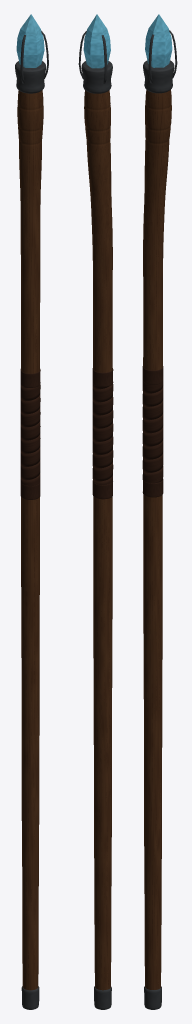
File: Aetheria_T1_MagicStaff.fbx
3 views of the same model, side by side, from view 1: azimuth 90°, elevation 25°; view 2: azimuth 150°, elevation 25°; view 3: azimuth 330°, elevation 25° (orthographic).
Visible parts, largest first — view 1: Staff_01_WoodenShaft, Staff_02_LeatherGrip, Staff_06_PaleCrystalFocus, Staff_05_FocusSocket, Staff_04_IronFoot, Staff_03_GripFinish_Upper, Staff_03_GripFinish_Lower, Staff_07_Retainer_2; view 2: Staff_01_WoodenShaft, Staff_02_LeatherGrip, Staff_06_PaleCrystalFocus, Staff_05_FocusSocket, Staff_04_IronFoot, Staff_03_GripFinish_Upper, Staff_03_GripFinish_Lower, Staff_07_Retainer_2; view 3: Staff_01_WoodenShaft, Staff_02_LeatherGrip, Staff_06_PaleCrystalFocus, Staff_05_FocusSocket, Staff_04_IronFoot, Staff_03_GripFinish_Upper, Staff_03_GripFinish_Lower, Staff_07_Retainer_3.
Part boxes in pixels (box(x1,y1,x2,y2)): Staff_01_WoodenShaft: box(17, 90, 43, 990); Staff_02_LeatherGrip: box(20, 384, 40, 487); Staff_06_PaleCrystalFocus: box(16, 14, 44, 67); Staff_05_FocusSocket: box(15, 61, 45, 93); Staff_04_IronFoot: box(21, 986, 39, 1009); Staff_03_GripFinish_Upper: box(20, 369, 40, 387); Staff_03_GripFinish_Lower: box(20, 482, 40, 499); Staff_07_Retainer_2: box(20, 35, 25, 83); Staff_01_WoodenShaft: box(84, 90, 112, 990); Staff_02_LeatherGrip: box(92, 381, 113, 486); Staff_06_PaleCrystalFocus: box(83, 14, 110, 68); Staff_05_FocusSocket: box(81, 61, 112, 93); Staff_04_IronFoot: box(94, 986, 111, 1009); Staff_03_GripFinish_Upper: box(92, 368, 113, 386); Staff_03_GripFinish_Lower: box(92, 480, 112, 499); Staff_07_Retainer_2: box(101, 35, 107, 83); Staff_01_WoodenShaft: box(143, 90, 171, 989); Staff_02_LeatherGrip: box(142, 381, 163, 483); Staff_06_PaleCrystalFocus: box(145, 14, 172, 67); Staff_05_FocusSocket: box(143, 60, 174, 93); Staff_04_IronFoot: box(144, 986, 161, 1009); Staff_03_GripFinish_Upper: box(142, 366, 163, 384); Staff_03_GripFinish_Lower: box(142, 479, 163, 497); Staff_07_Retainer_3: box(148, 34, 154, 83).
Size of the model in its own units: 0.051 by 1.68 by 0.0525.
Materials: 4 (4 with a texture image).
